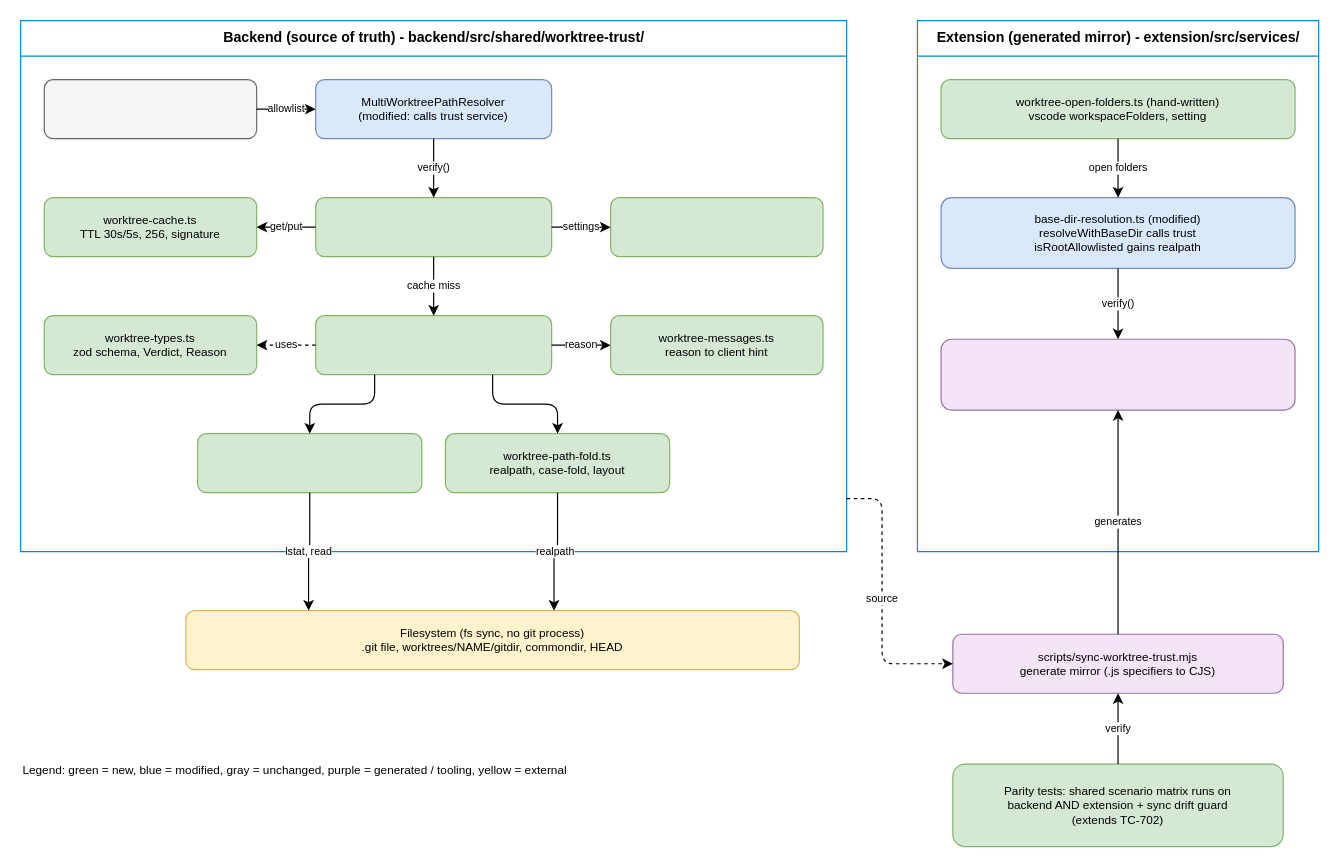
The diagram is 1339 pixels wide and 867 high, and some of its shapes have lost their labels. Here are the shapes that lost their labels. From the top down, the centre of each, then its label:
At (150,108): "WorkspaceAllowlist (existing, unchanged)".
At (433,226): "worktree-trust-service.ts facade: switch, cache, log".
At (716,226): "worktree-config.ts env switch, open folders".
At (433,344): "worktree-verifier.ts verifyWorktree()".
At (1117,374): "worktree-trust/*.ts (GENERATED mirror) same files as backend, no hand edits".
At (309,462): "worktree-git-files.ts bounded read, parse".
